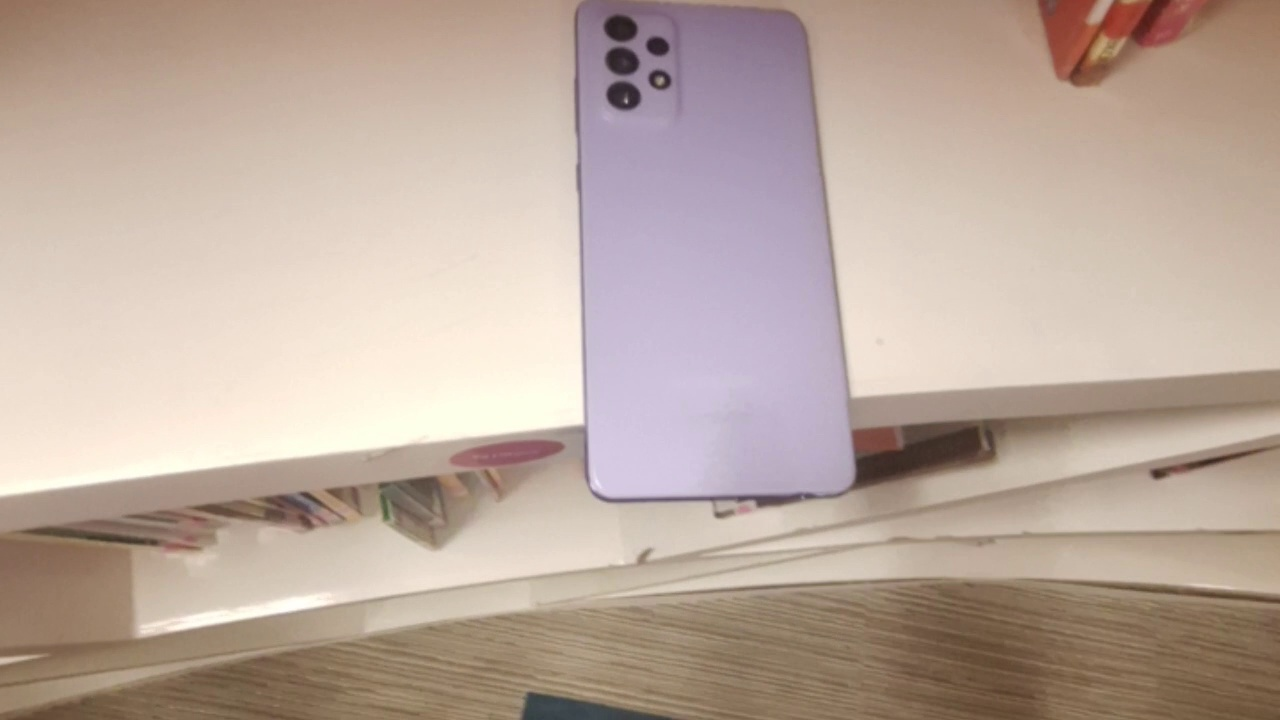celular: (572, 6, 858, 507)
